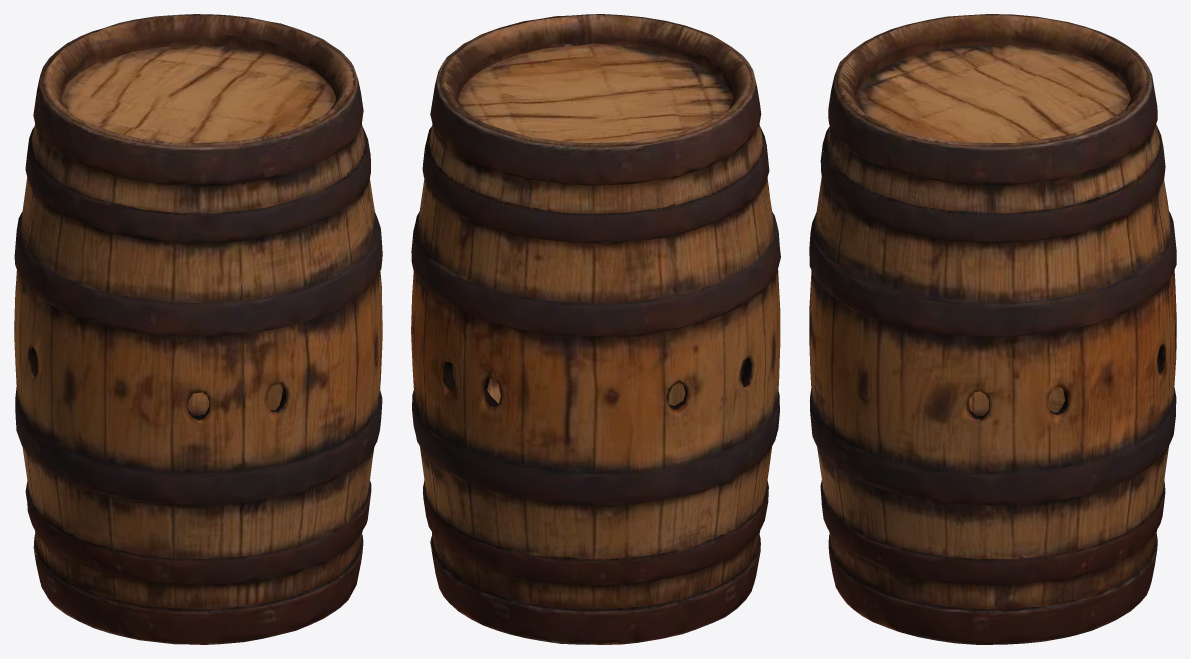
Rendered from barril.glb.
3 views of the same model, side by side, from view 1: azimuth 30°, elevation 25°; view 2: azimuth 150°, elevation 25°; view 3: azimuth 270°, elevation 25° (orthographic).
Parts seen in each view (by area): view 1: geometry_0; view 2: geometry_0; view 3: geometry_0.
Boxes of the visible parts, x1,y1,x2,y2 form: geometry_0: (14,14,382,644); geometry_0: (411,14,780,644); geometry_0: (809,14,1176,644).
Size of the model in its own units: 0.5999 by 0.9 by 0.6.
Materials: 1 (1 with a texture image).
